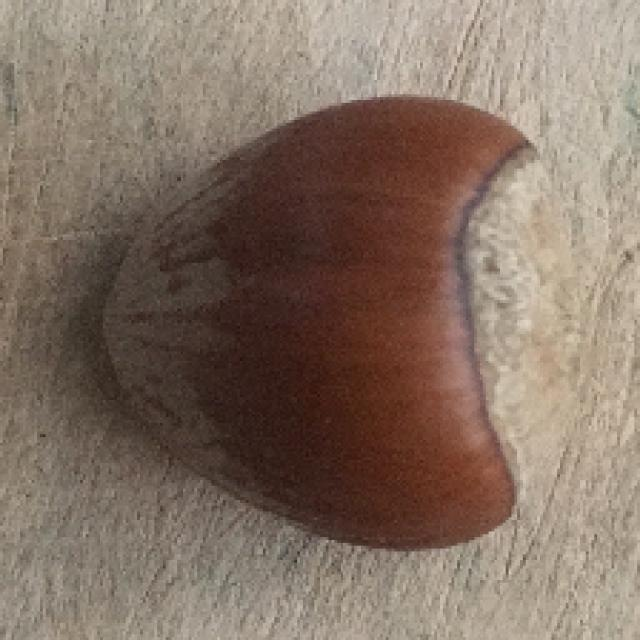qualityHazelnut: (97, 98, 560, 550)
